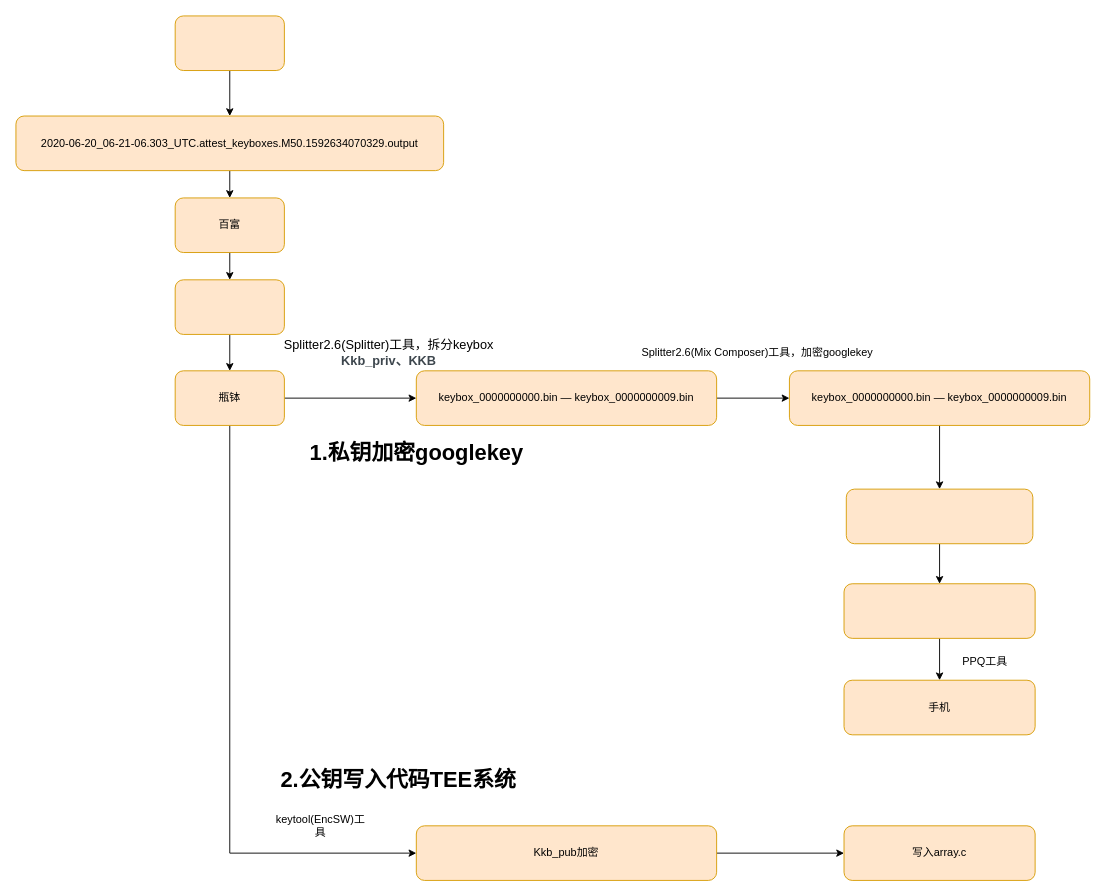
Some shapes in this 1106 by 896 pixel diagram are drawn without their labels. The centre of each missing label's shape, as x and y in pixels:
"MADA公司" belongs at point 229,43.
"url服务器" belongs at point 939,516.
"产线" belongs at point 939,610.
"鸿祥源" belongs at point 229,306.
